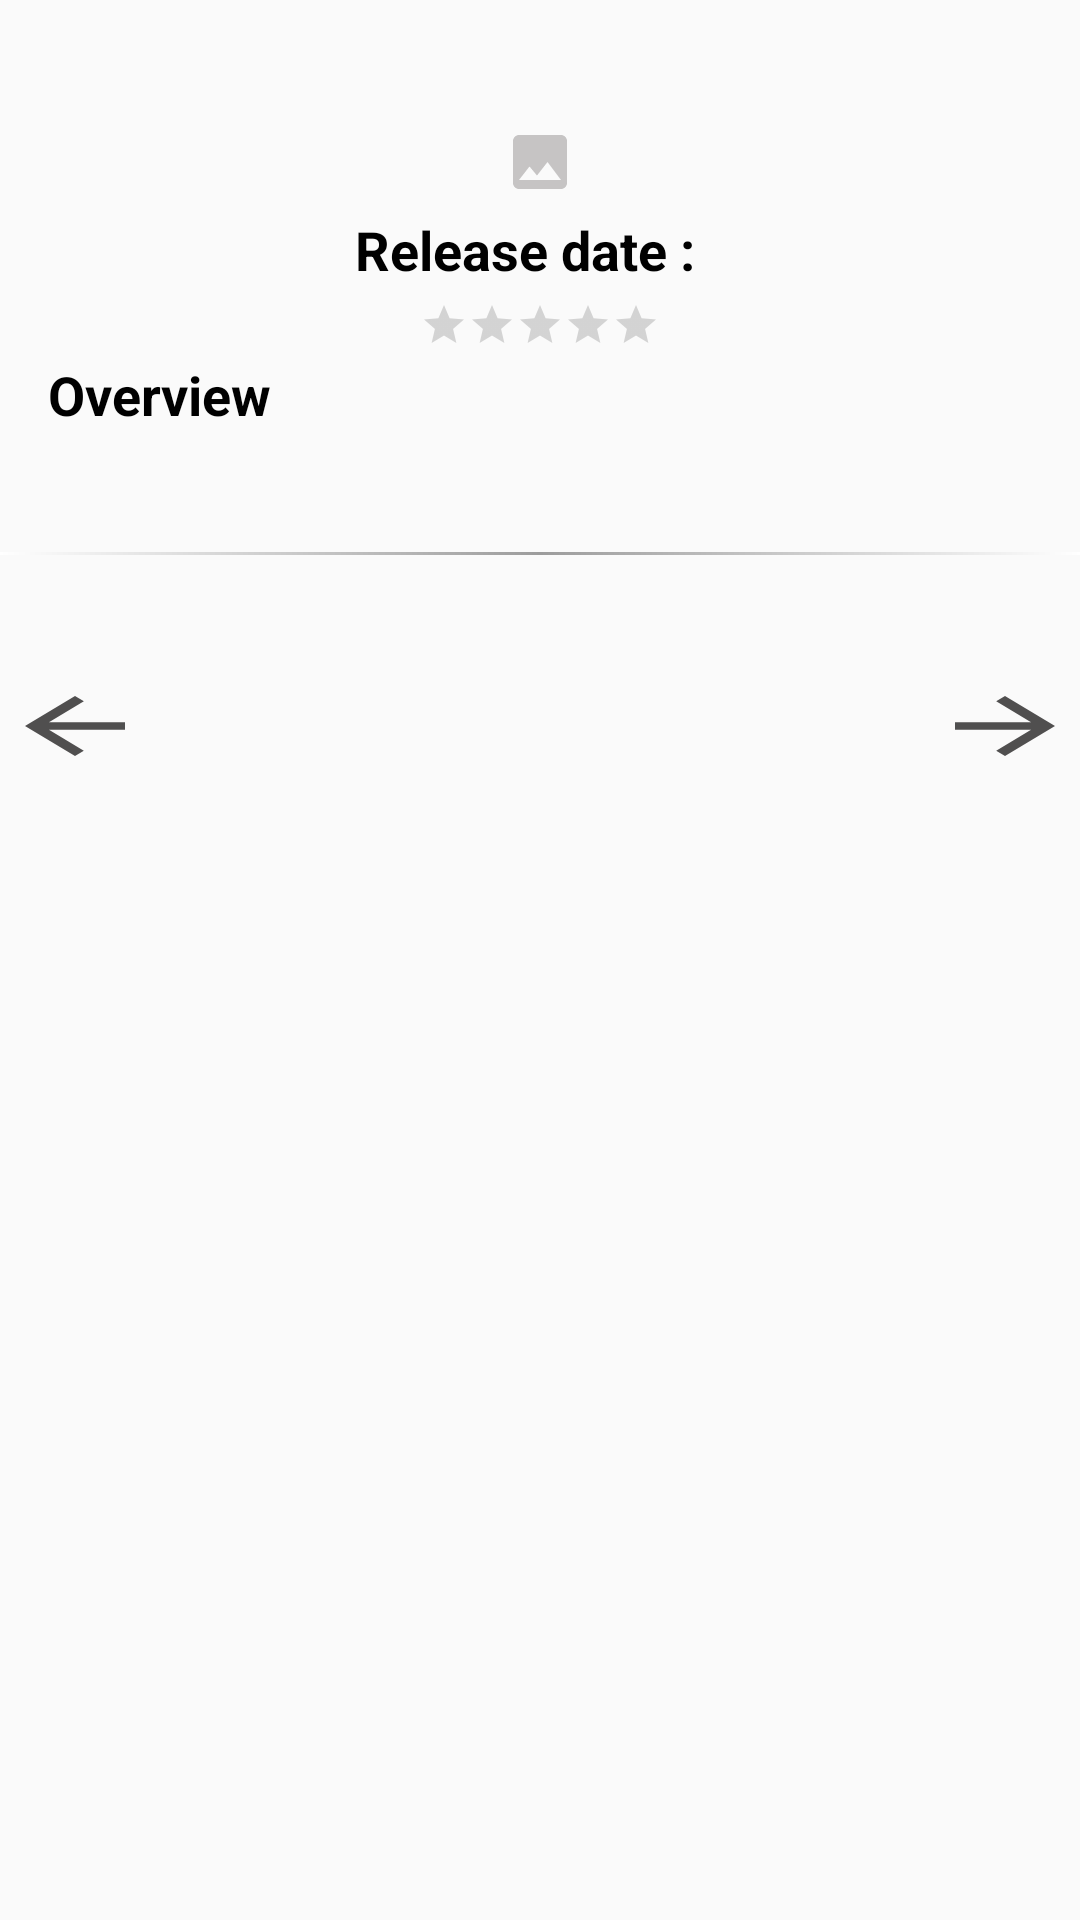

Icons on this 1080 x 1920 Android screen, each with its box as (x1, y1, x2, y2):
arrow back: (25, 696, 125, 756)
arrow forward: (955, 696, 1055, 756)
